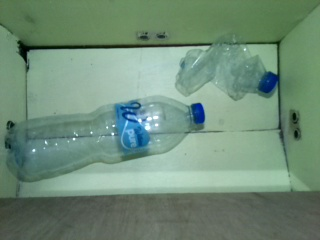bottle: (6, 93, 206, 183)
damaged-bottle: (174, 31, 279, 101)
